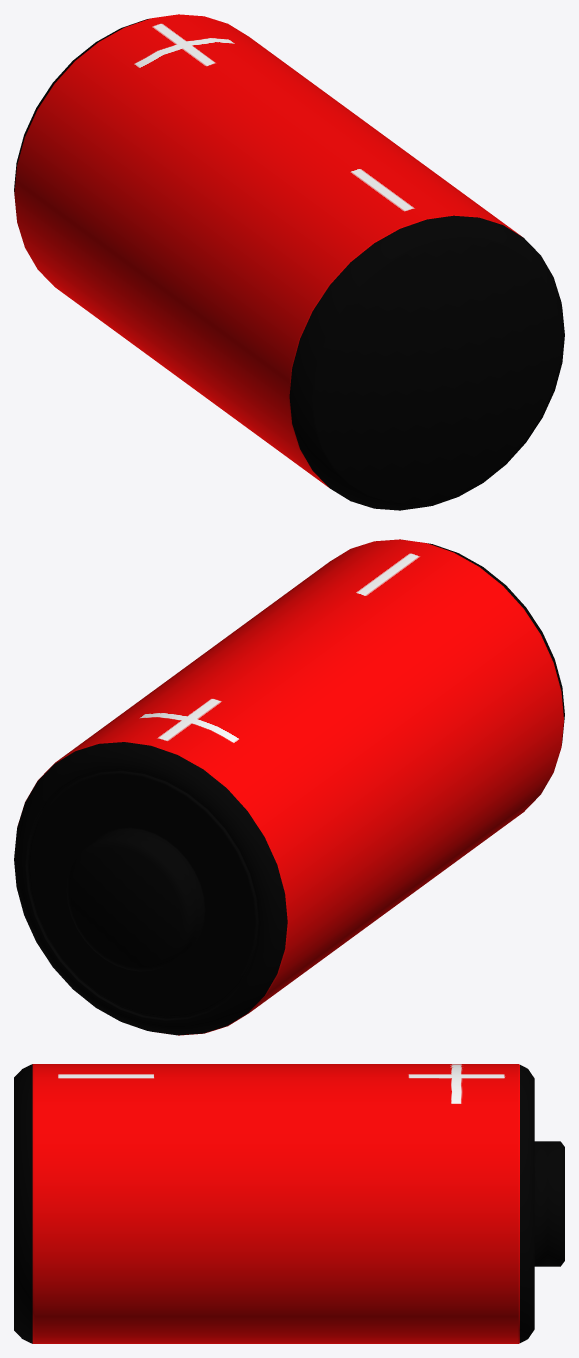
Rendered from battery1.glb.
The picture shows the model from 3 angles, top to bottom: view 1: azimuth 30°, elevation 25°; view 2: azimuth 150°, elevation 25°; view 3: azimuth 270°, elevation 25°; orthographic projection. The views are drawn at different scales.
Visible parts, largest first — view 1: Battery; view 2: Battery; view 3: Battery.
Boxes of the visible parts, bbox=[...] form: Battery: bbox=[14, 14, 564, 510]; Battery: bbox=[14, 539, 564, 1035]; Battery: bbox=[14, 1064, 564, 1343].
Bounding box in the file's own units: 0.0476 × 0.0476 × 0.0937.
1 material, 1 textured.
